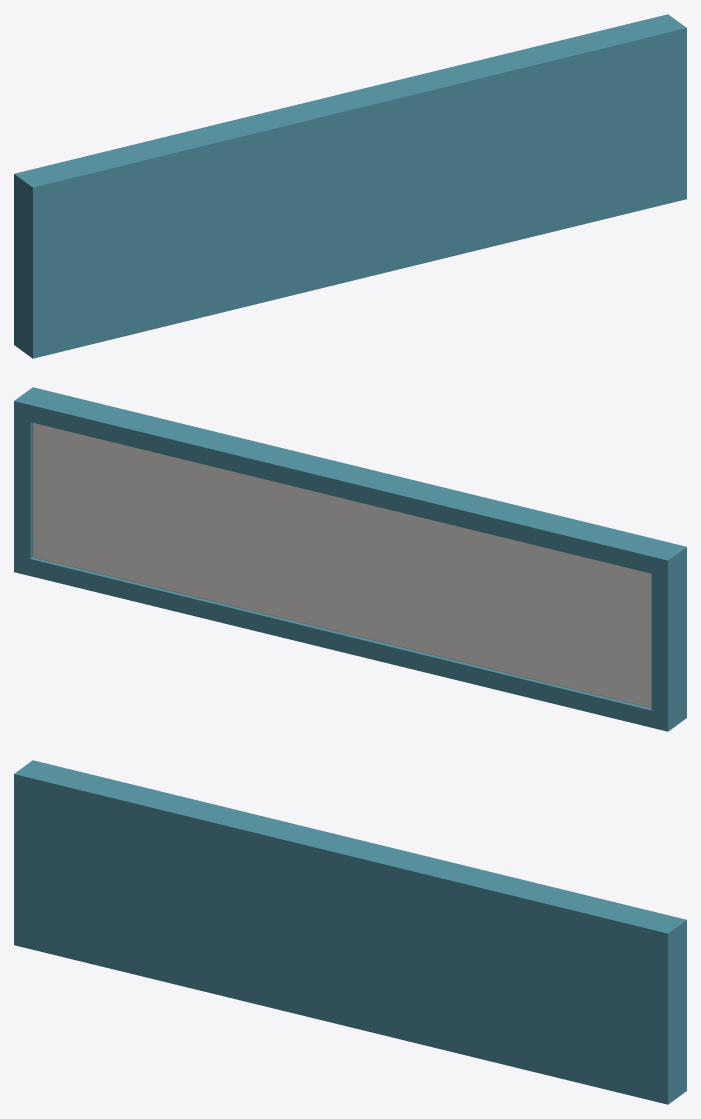
The model's file is tabela_bandi.glb.
The picture shows the model from 3 angles, top to bottom: view 1: azimuth 30°, elevation 25°; view 2: azimuth 150°, elevation 25°; view 3: azimuth 330°, elevation 25°; orthographic projection.
Parts seen in each view (by area): view 1: sign_band_240-col; view 2: sign_band_240-col; view 3: sign_band_240-col.
Boxes of the visible parts, x1,y1,x2,y2 form: sign_band_240-col: (14, 14, 686, 358); sign_band_240-col: (14, 387, 686, 731); sign_band_240-col: (14, 760, 686, 1104).
Bounding box in the file's own units: 2.4 × 0.6 × 0.12.
